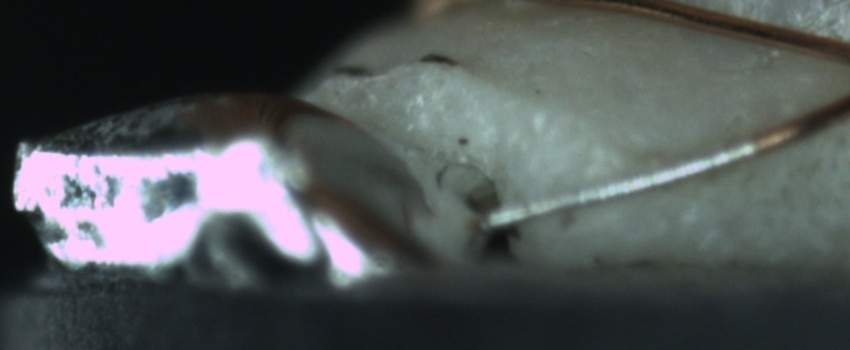TS: (476, 145, 746, 233)
